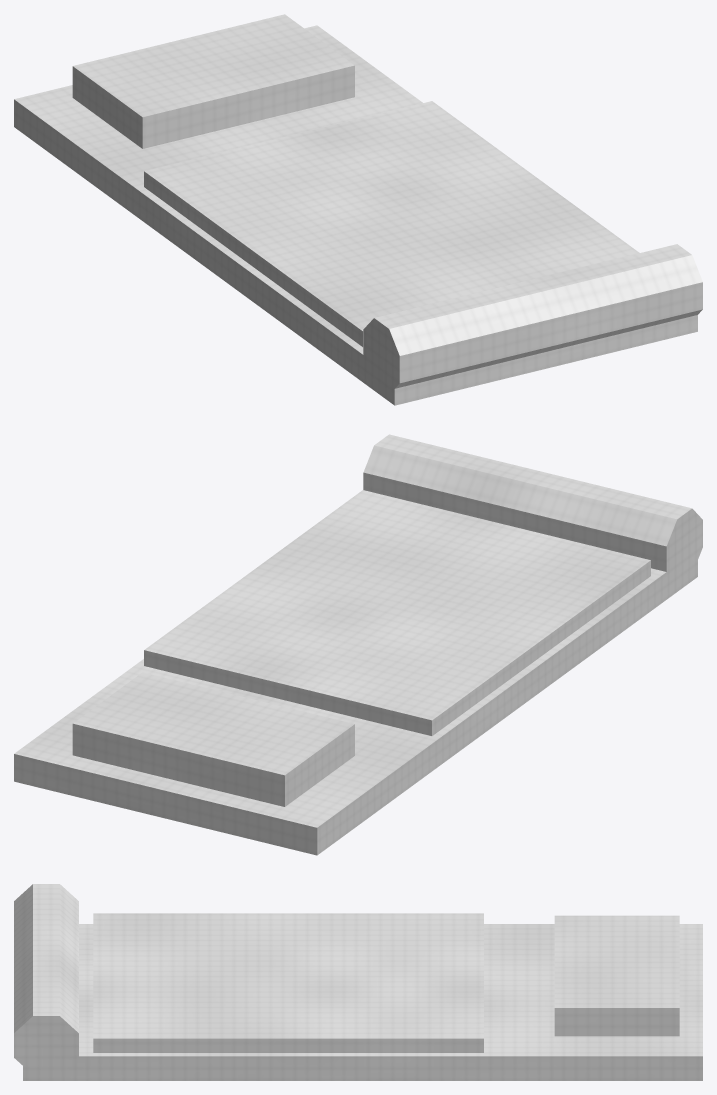
File: bedroll.obj
3 views of the same model, one above another, from view 1: azimuth 30°, elevation 25°; view 2: azimuth 150°, elevation 25°; view 3: azimuth 270°, elevation 25° (orthographic). The views are drawn at different scales.
Visible parts, largest first — view 1: bedroll; view 2: bedroll; view 3: bedroll.
Part boxes in pixels (x1,y1,x2,y2): bedroll: (14,14,702,405); bedroll: (14,434,702,855); bedroll: (14,884,702,1080).
Bounding box in the file's own units: 0.8 × 0.1831 × 1.76.
